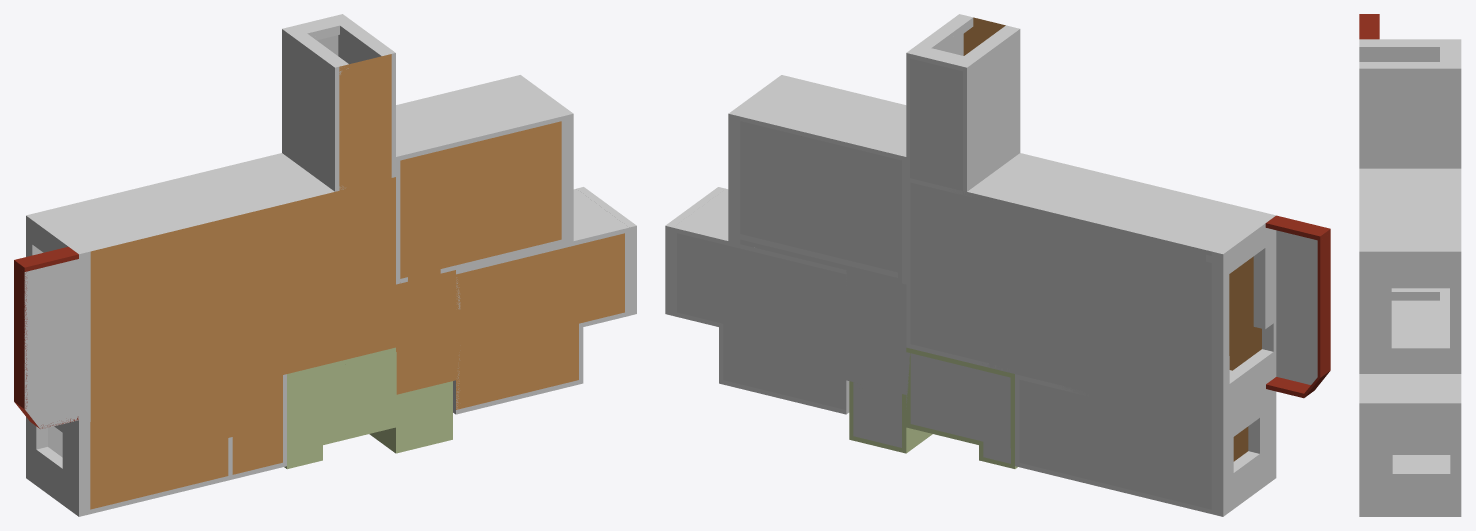
File: Grundriss_MaxM_v5.dae
The picture shows the model from 3 angles, left to right: view 1: azimuth 30°, elevation 25°; view 2: azimuth 150°, elevation 25°; view 3: azimuth 270°, elevation 25°; orthographic projection. The views are drawn at different scales.
Visible parts, largest first — view 1: Livingroom, Bedroom, KidsRoom, Kitchen, TWalls_Livingroom, TWalls_KidsRoom, TWalls_Hallway1, Balcony, Bathroom, Hallway2, Hallway1, TWalls_Kitchen (+5 smaller); view 2: TCeiling_Livingroom, TWalls_Livingroom, TCeiling_Bedroom, TCeiling_KidsRoom, TCeiling_Kitchen, TWalls_KidsRoom, TWalls_Hallway1, TCeiling_Bathroom, TWalls_Kitchen, TCeiling_Hallway2, TCeiling_Hallway1, Balcony (+7 smaller); view 3: TWalls_KidsRoom, TWalls_Bedroom, TWalls_Hallway1, TWalls_Livingroom, TWalls_Balcony, TWalls_Hallway2.
Part boxes in pixels (x1,y1,x2,y2): Livingroom: (90,177,395,421); Bedroom: (456,233,624,409); KidsRoom: (400,121,561,282); Kitchen: (90,375,282,509); TWalls_Livingroom: (26,153,334,424); TWalls_KidsRoom: (396,75,573,284); TWalls_Hallway1: (282,14,395,191); Balcony: (24,259,78,429); Bathroom: (291,352,396,448); Hallway2: (396,270,455,394); Hallway1: (339,54,391,190); TWalls_Kitchen: (26,374,286,516); TCeiling_Livingroom: (910,183,1211,421); TWalls_Livingroom: (906,153,1276,424); TCeiling_Bedroom: (677,233,846,409); TCeiling_KidsRoom: (740,121,901,283); TCeiling_Kitchen: (1019,380,1211,509); TWalls_KidsRoom: (728,75,906,284); TWalls_Hallway1: (906,14,1020,191); TCeiling_Bathroom: (906,352,1010,463); TWalls_Kitchen: (1015,374,1276,516); TCeiling_Hallway2: (846,270,906,394); TCeiling_Hallway1: (910,58,962,190); Balcony: (1276,230,1317,389); TWalls_KidsRoom: (1359,168,1461,373); TWalls_Bedroom: (1359,374,1461,516); TWalls_Hallway1: (1359,40,1461,168); TWalls_Livingroom: (1359,39,1461,307); TWalls_Balcony: (1359,14,1379,39); TWalls_Hallway2: (1391,296,1439,300).
Bounding box in the file's own units: 16.84 × 2.54 × 10.53.
